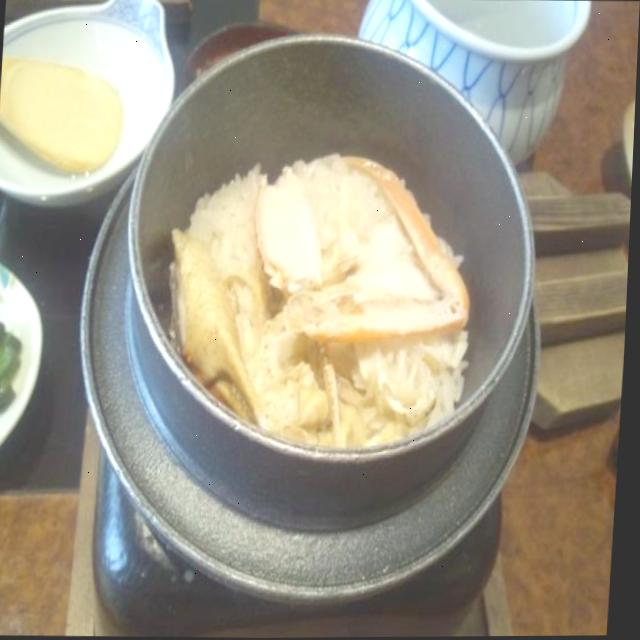刺身生食: (14, 0, 585, 640)
